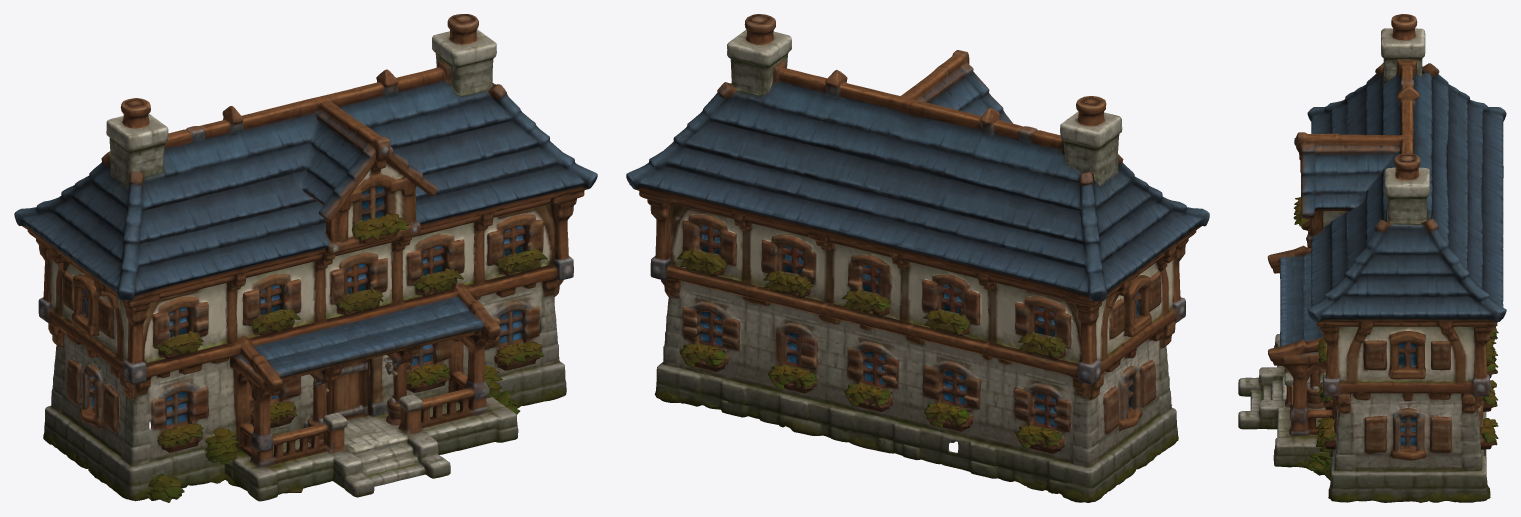
Rendered from sample_2026-06-30T203134.640.glb.
3 views of the same model, side by side, from view 1: azimuth 30°, elevation 25°; view 2: azimuth 150°, elevation 25°; view 3: azimuth 270°, elevation 25° (orthographic). The views are drawn at different scales.
Parts seen in each view (by area): view 1: world; view 2: world; view 3: world.
Boxes of the visible parts, <box> form: world: <box>14,14,597,502</box>; world: <box>626,14,1209,502</box>; world: <box>1238,14,1506,502</box>.
Bounding box in the file's own units: 1 × 0.7212 × 0.5512.
Materials: 1 (1 with a texture image).
